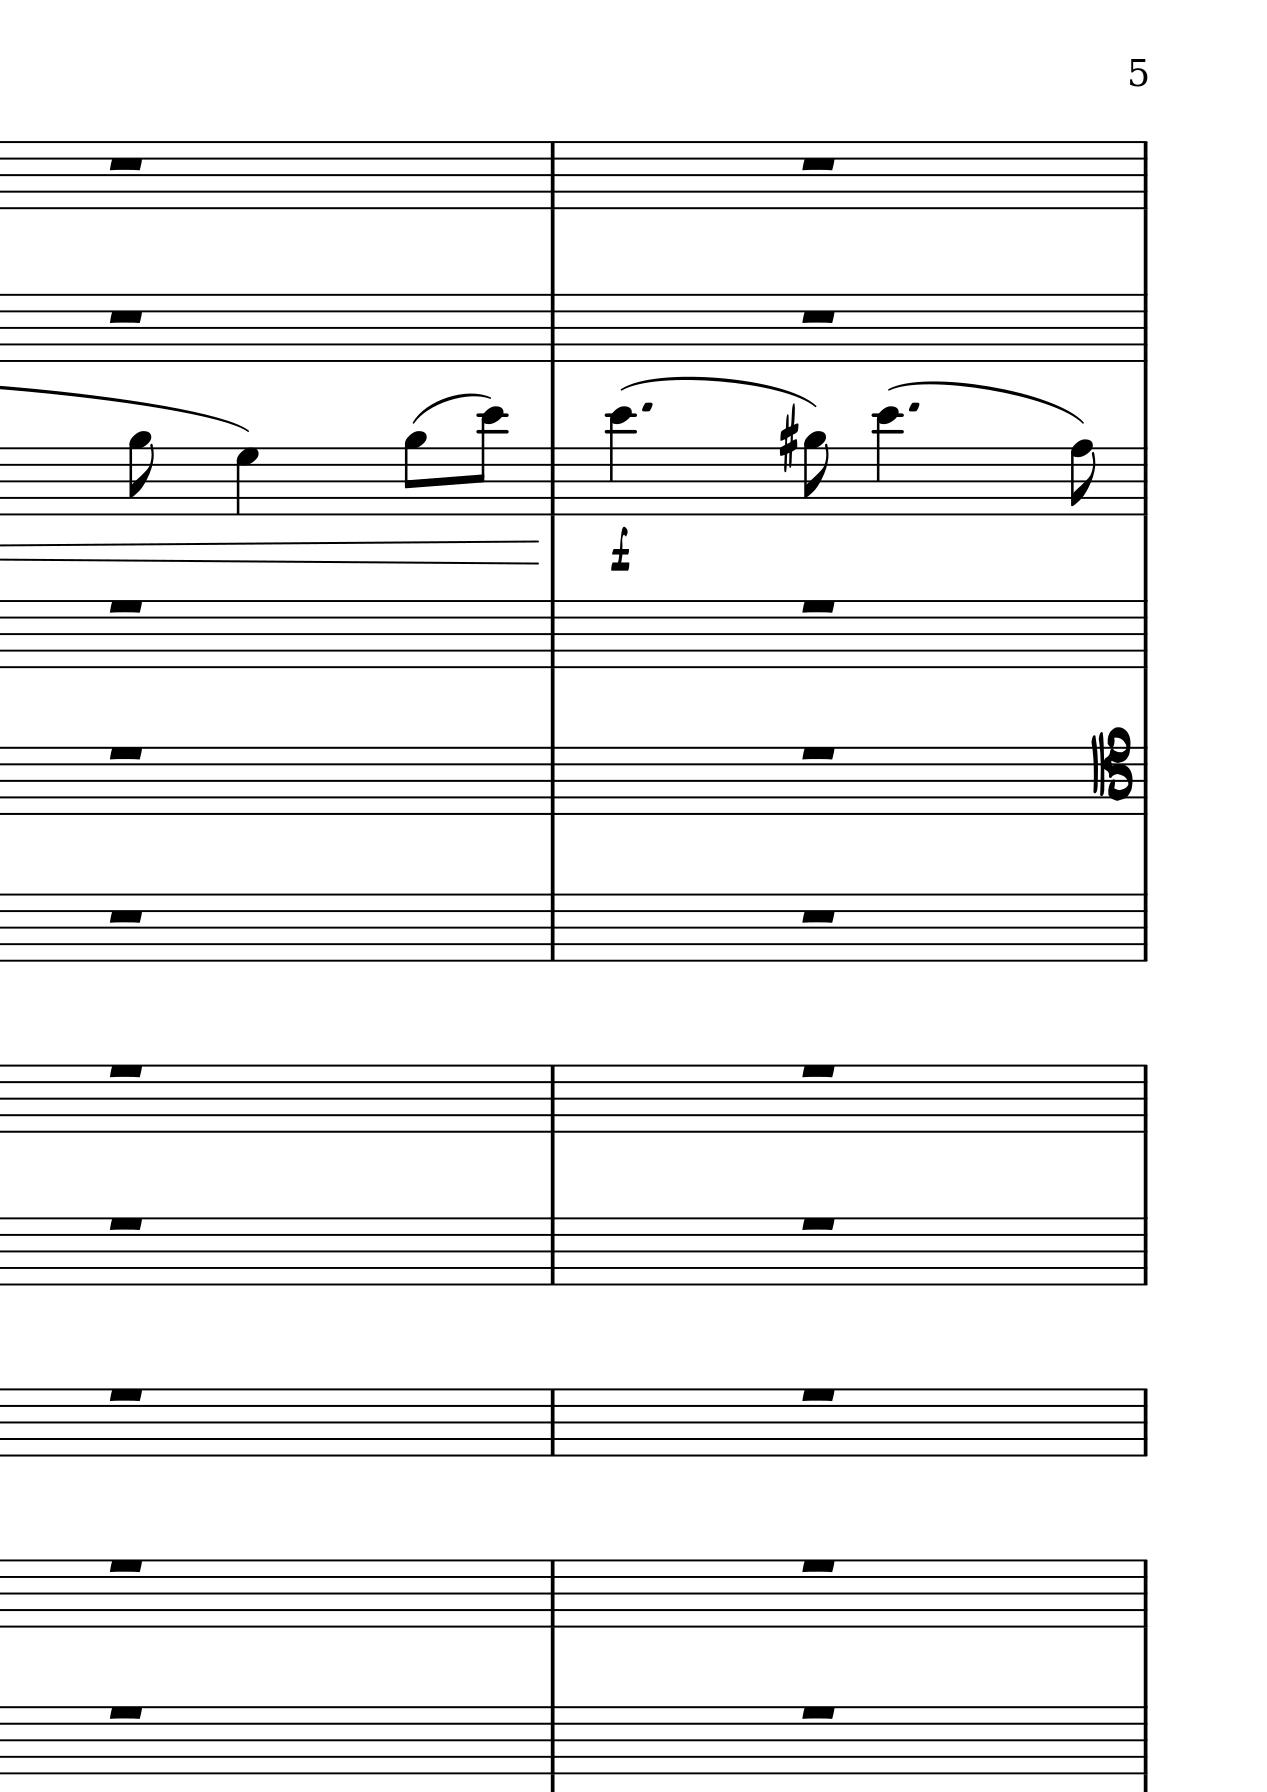4_12: (872, 407, 902, 521), (605, 407, 635, 520)
4_7: (233, 446, 259, 517)
5: (1127, 55, 1149, 89)
8_12: (468, 404, 506, 518)
8_8: (1068, 437, 1096, 518)
8_9: (126, 431, 154, 520), (801, 431, 828, 520), (400, 431, 426, 517)
Rests1: (103, 904, 147, 928), (797, 1553, 841, 1578), (103, 1383, 148, 1407), (103, 1553, 148, 1577), (103, 1702, 148, 1725), (797, 1383, 841, 1407), (103, 1060, 148, 1082), (103, 1213, 148, 1235), (797, 904, 839, 927), (797, 1212, 839, 1235), (797, 1702, 839, 1725), (103, 596, 147, 618), (103, 743, 147, 765), (797, 1060, 841, 1082), (797, 596, 839, 618), (797, 743, 839, 765), (104, 154, 145, 175), (104, 304, 145, 326), (797, 154, 838, 174), (797, 306, 838, 326)
Sharp: (776, 403, 799, 472)
Single_barline: (540, 1218, 564, 1286), (540, 747, 564, 814), (540, 1707, 564, 1774), (1133, 1389, 1155, 1457), (542, 143, 564, 208), (1133, 601, 1155, 666), (1134, 1218, 1155, 1286), (542, 293, 562, 361), (542, 895, 562, 962), (1134, 895, 1155, 962), (1134, 1065, 1155, 1133), (542, 1065, 562, 1133), (542, 1560, 562, 1627), (1134, 1560, 1155, 1627), (542, 601, 562, 666), (542, 1390, 562, 1456), (1134, 293, 1153, 361), (1134, 1707, 1153, 1774), (543, 448, 562, 514), (1135, 749, 1155, 814), (1135, 448, 1153, 516), (1135, 143, 1153, 208)
Slur: (886, 378, 1085, 428), (621, 377, 816, 409), (414, 391, 485, 426)
Tensor_Cclef: (1090, 727, 1134, 817)
dot: (639, 399, 655, 417), (906, 399, 921, 415)
f: (607, 526, 632, 572)
